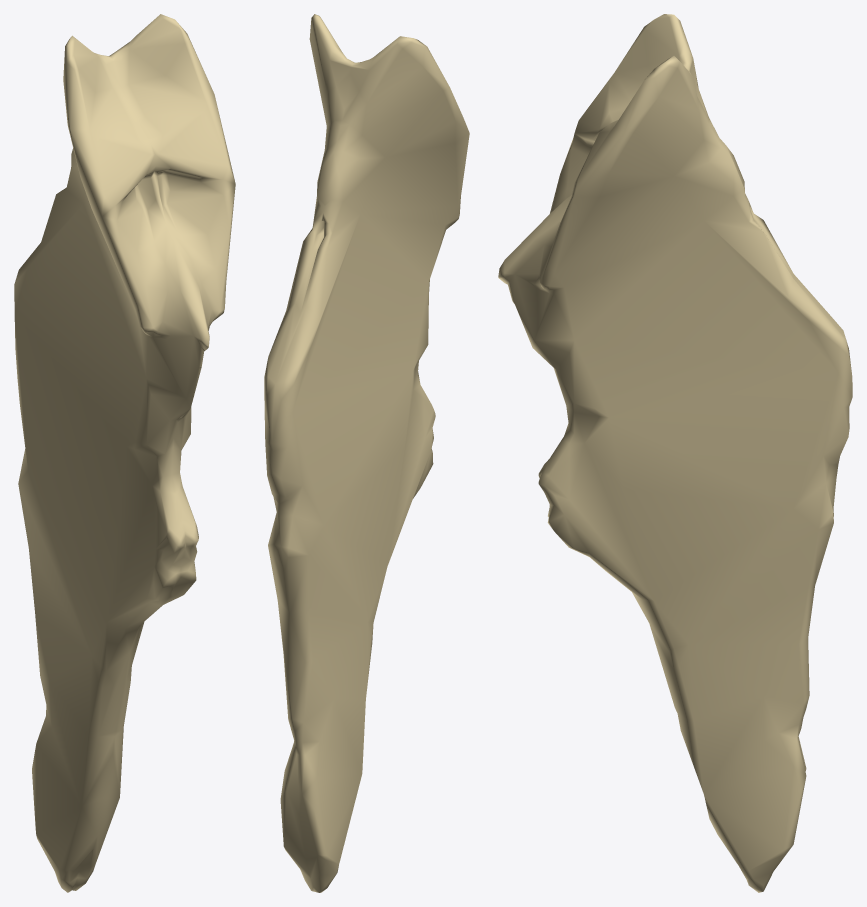
The picture shows the model from 3 angles, left to right: view 1: azimuth 30°, elevation 25°; view 2: azimuth 150°, elevation 25°; view 3: azimuth 270°, elevation 25°; orthographic projection. The views are drawn at different scales.
Visible parts, largest first — view 1: 犁骨; view 2: 犁骨; view 3: 犁骨.
Part boxes in pixels (box(x1,y1,x2,y2)): 犁骨: box(14, 14, 235, 892); 犁骨: box(264, 14, 469, 892); 犁骨: box(498, 14, 852, 892).
Bounding box in the file's own units: 0.0151 × 0.0901 × 0.0338.
